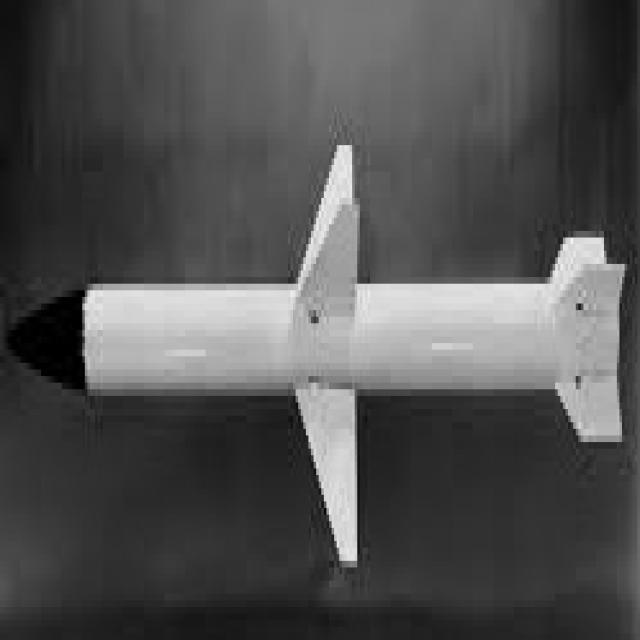missile: (10, 132, 636, 574)
